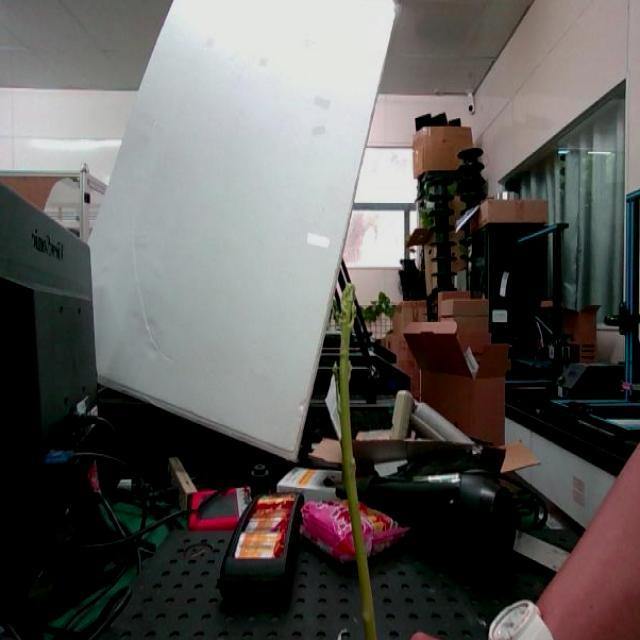aspargus: (336, 276, 376, 640)
